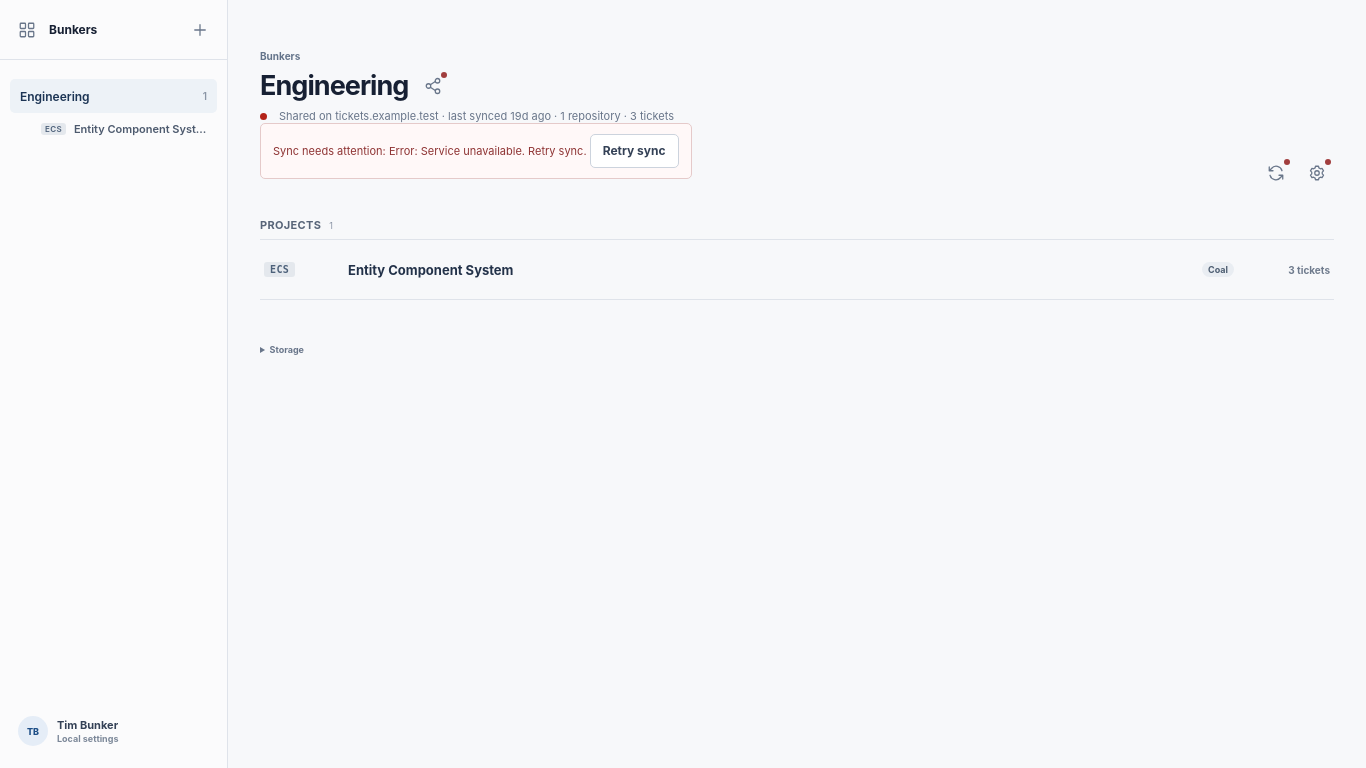
Scenario: Bunker and Project boundaries › keeps failed sync visible until an explicit retry succeeds
This screenshot has width=1366, height=768.
Expected: the message shows "Sync needs attention", [273,144,389,158]
Expected: the icon with class "failed" is shown, [260,112,267,120]
Step 1. Click the button "Retry sync" → (634, 151), box [590,134,679,168]
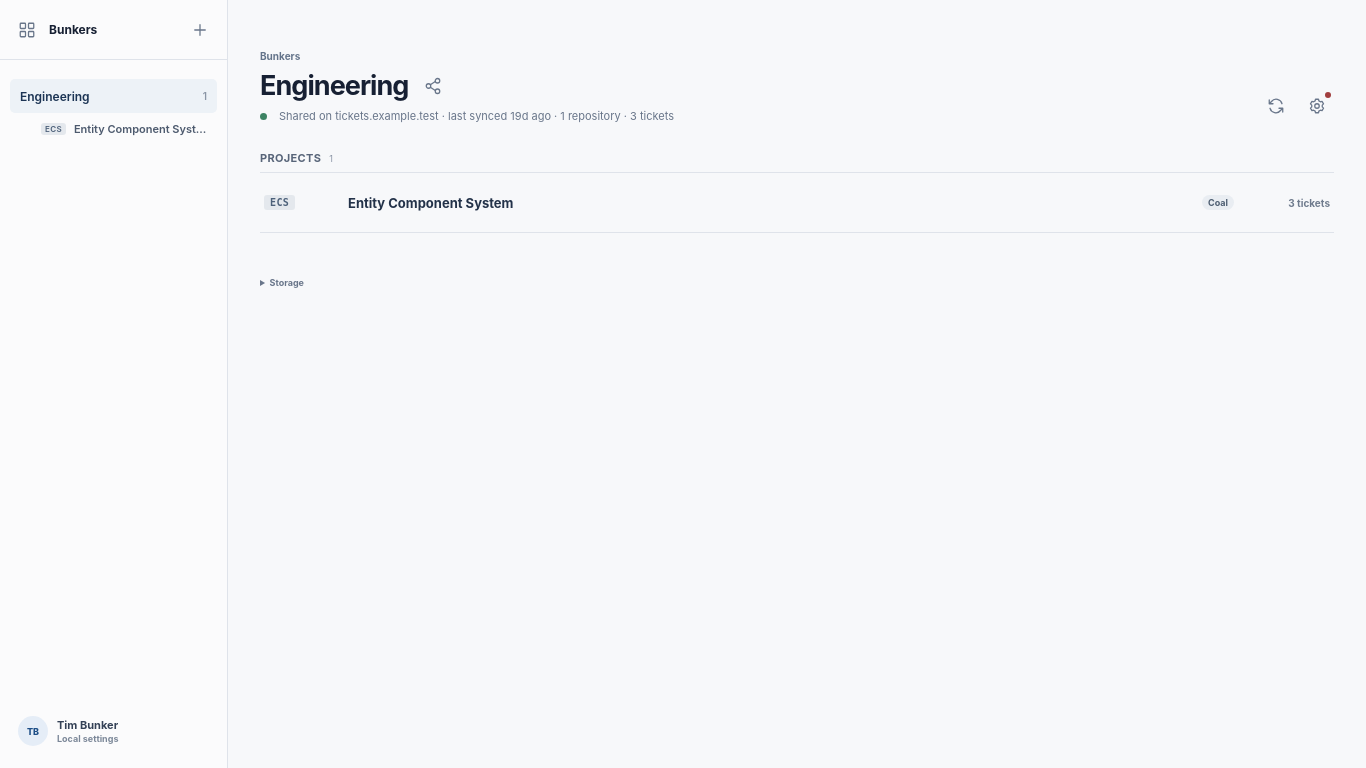
Expected: the icon with class "failed" is shown, [260,112,267,120]
Expected: the message "Sync needs attention: Error: Service unavailable. Retry sync. Retry sync" is gone
